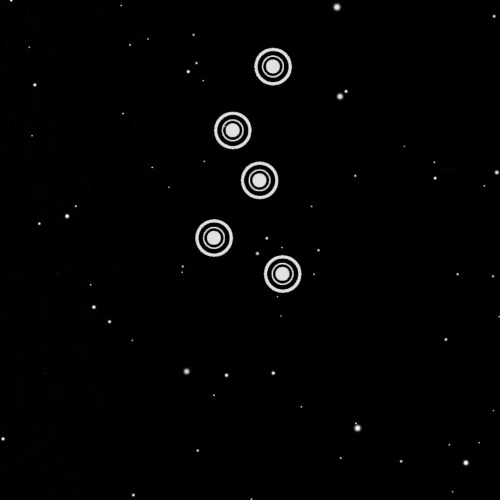cassiopeia: (185, 34, 319, 308)
